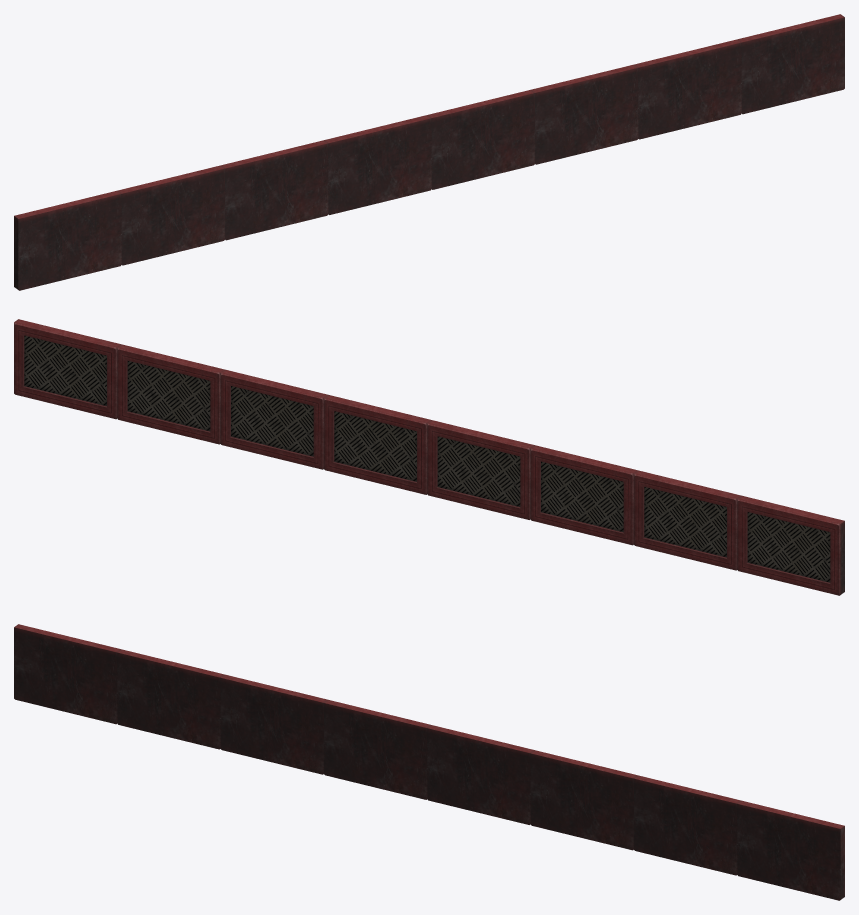
Rendered from Arena Area Lateral 2.fbx.
3 views of the same model, one above another, from view 1: azimuth 30°, elevation 25°; view 2: azimuth 150°, elevation 25°; view 3: azimuth 330°, elevation 25° (orthographic).
Visible parts, largest first — view 1: Arena Area Lateral 2; view 2: Arena Area Lateral 2; view 3: Arena Area Lateral 2.
Boxes of the visible parts, left/top/right/bottom form: Arena Area Lateral 2: left=14, top=14, right=844, bottom=290; Arena Area Lateral 2: left=14, top=319, right=844, bottom=595; Arena Area Lateral 2: left=14, top=624, right=844, bottom=900.
Bounding box in the file's own units: 48 × 4 × 0.5.
